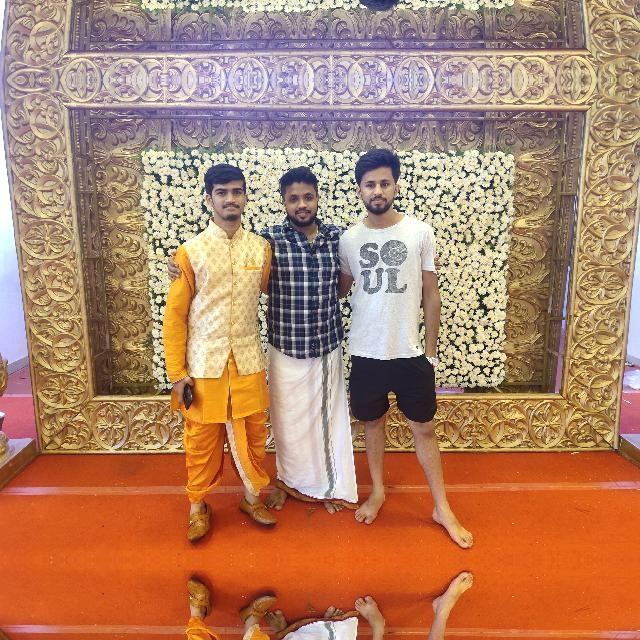person: (154, 163, 262, 409), (347, 145, 438, 381), (262, 160, 346, 376), (346, 0, 437, 15)
